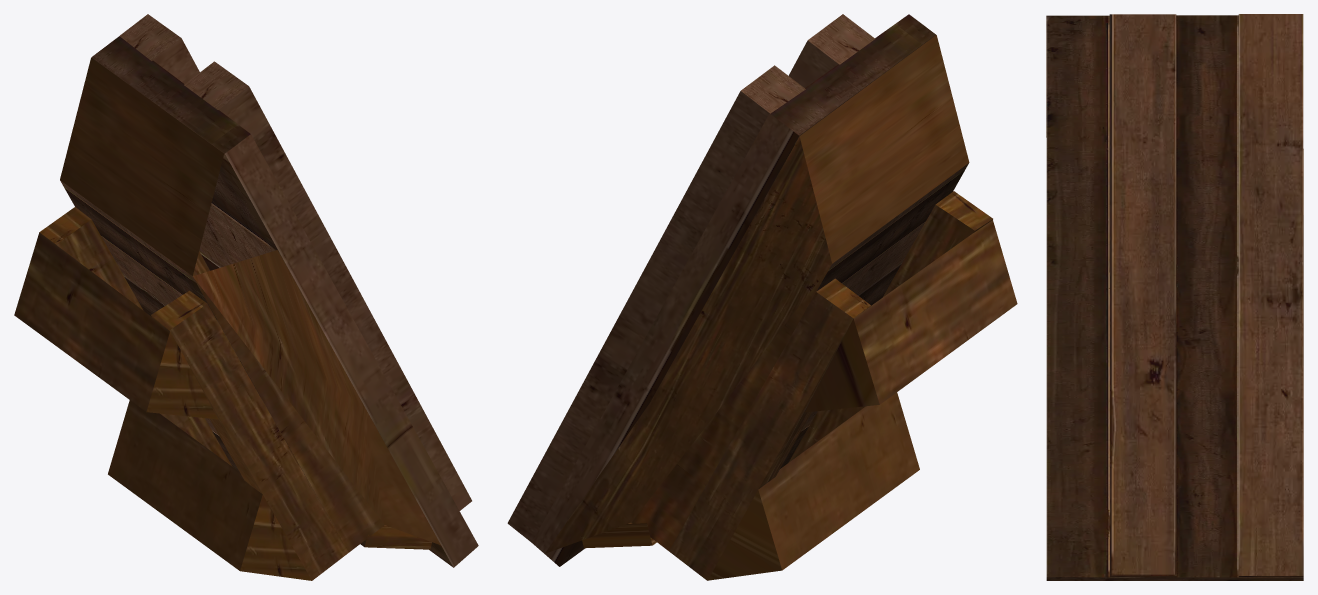
3 views of the same model, side by side, from view 1: azimuth 30°, elevation 25°; view 2: azimuth 150°, elevation 25°; view 3: azimuth 270°, elevation 25° (orthographic). The views are drawn at different scales.
Visible parts, largest first — view 1: SM_BB_T2_Roof_Small_Steep_LOD0; view 2: SM_BB_T2_Roof_Small_Steep_LOD0; view 3: SM_BB_T2_Roof_Small_Steep_LOD0.
Boxes of the visible parts, box(x1,y1,x2,y2) form: SM_BB_T2_Roof_Small_Steep_LOD0: box(14, 14, 478, 580); SM_BB_T2_Roof_Small_Steep_LOD0: box(507, 14, 1017, 580); SM_BB_T2_Roof_Small_Steep_LOD0: box(1046, 14, 1303, 580).
Size of the model in its own units: 1.18 by 1.57 by 0.7549.
2 materials, 2 textured.
